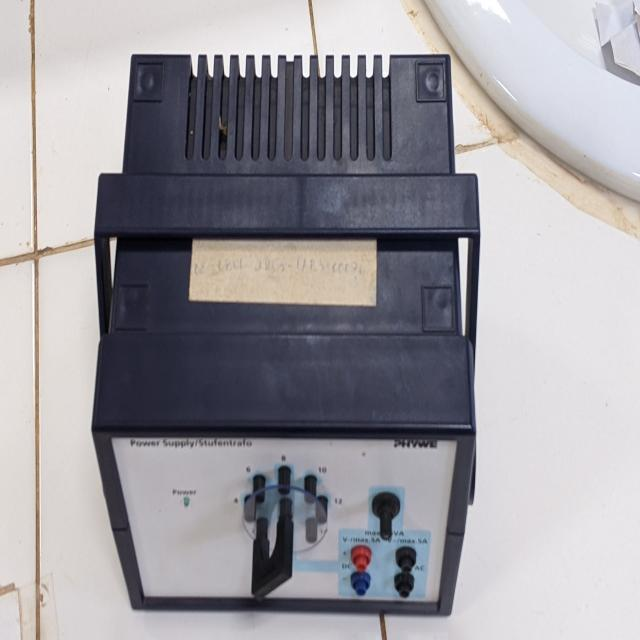Power Supply Stufentrafo_75VA: (78, 38, 504, 640)
